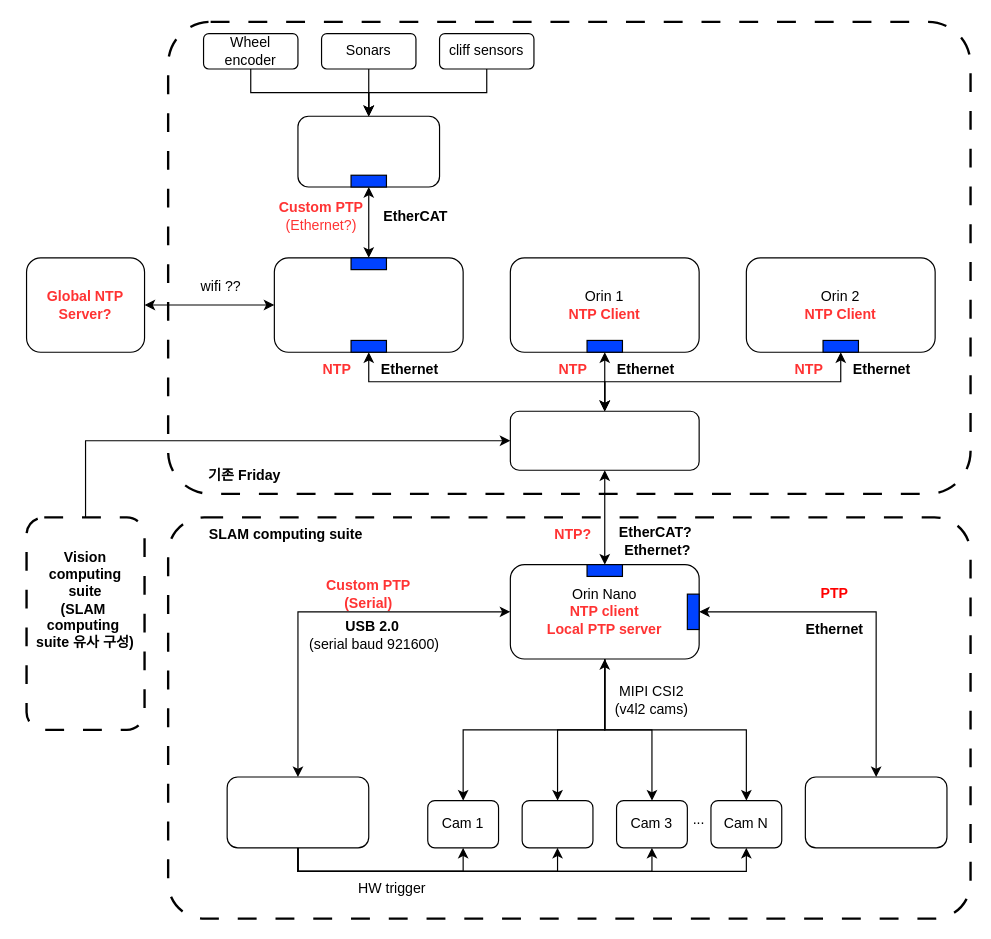
Some shapes in this 991 by 939 pixel diagram are drawn without their labels. The shapes that lost their labels are listed below. From the top down, each one's box as (x1, y1, x2, y2) in pixels, then its label:
(297, 115, 440, 187): MCU
(273, 257, 463, 352): NUC (RTPlatform) NTP Server? Client?
(509, 410, 699, 470): Switching Hub
(226, 776, 369, 848): MCU (STM32F407 custom)
(521, 799, 593, 848): Cam 2
(804, 776, 947, 848): 3D LiDAR
